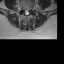CCS_normal: (26, 7, 27, 17)
LFS_stenosis: (29, 5, 31, 12)
LLS_normal: (27, 6, 29, 15)
RFS_normal: (22, 5, 24, 11)
RLS_normal: (24, 6, 26, 15)
